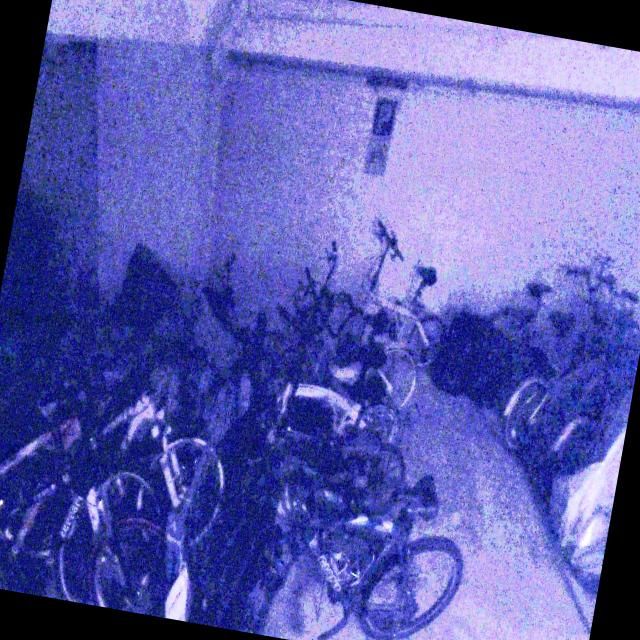bike: (0, 333, 244, 584), (222, 442, 478, 640), (0, 357, 183, 614), (497, 264, 640, 467), (274, 235, 438, 407), (326, 218, 462, 372), (478, 250, 616, 400)
